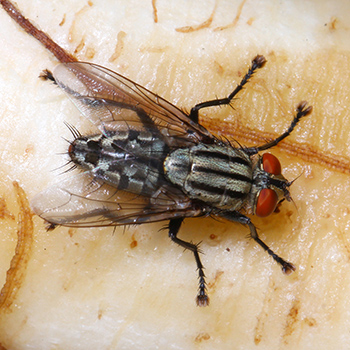phorid fly: (30, 27, 323, 317)
